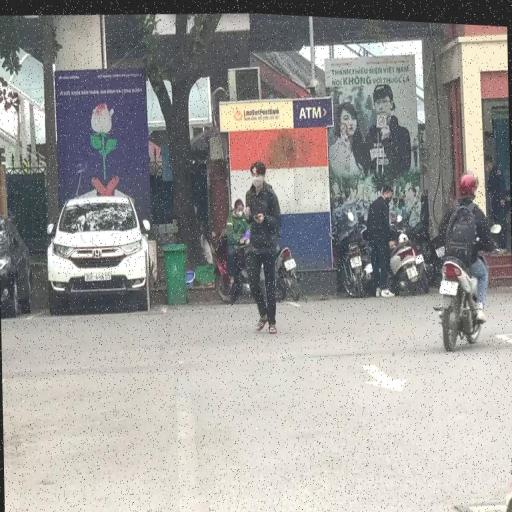bike: (433, 162, 504, 354)
numberplate: (438, 272, 458, 293), (284, 251, 298, 270), (405, 258, 419, 277), (349, 248, 362, 266)
with helmet: (458, 164, 480, 194)
